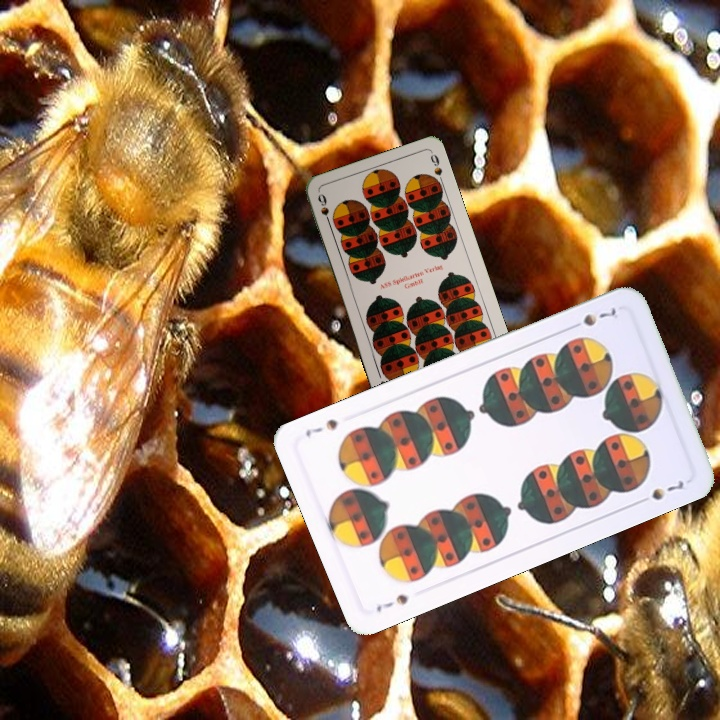S7: (565, 304, 619, 332), (372, 590, 411, 615)
S9: (314, 190, 334, 229)
